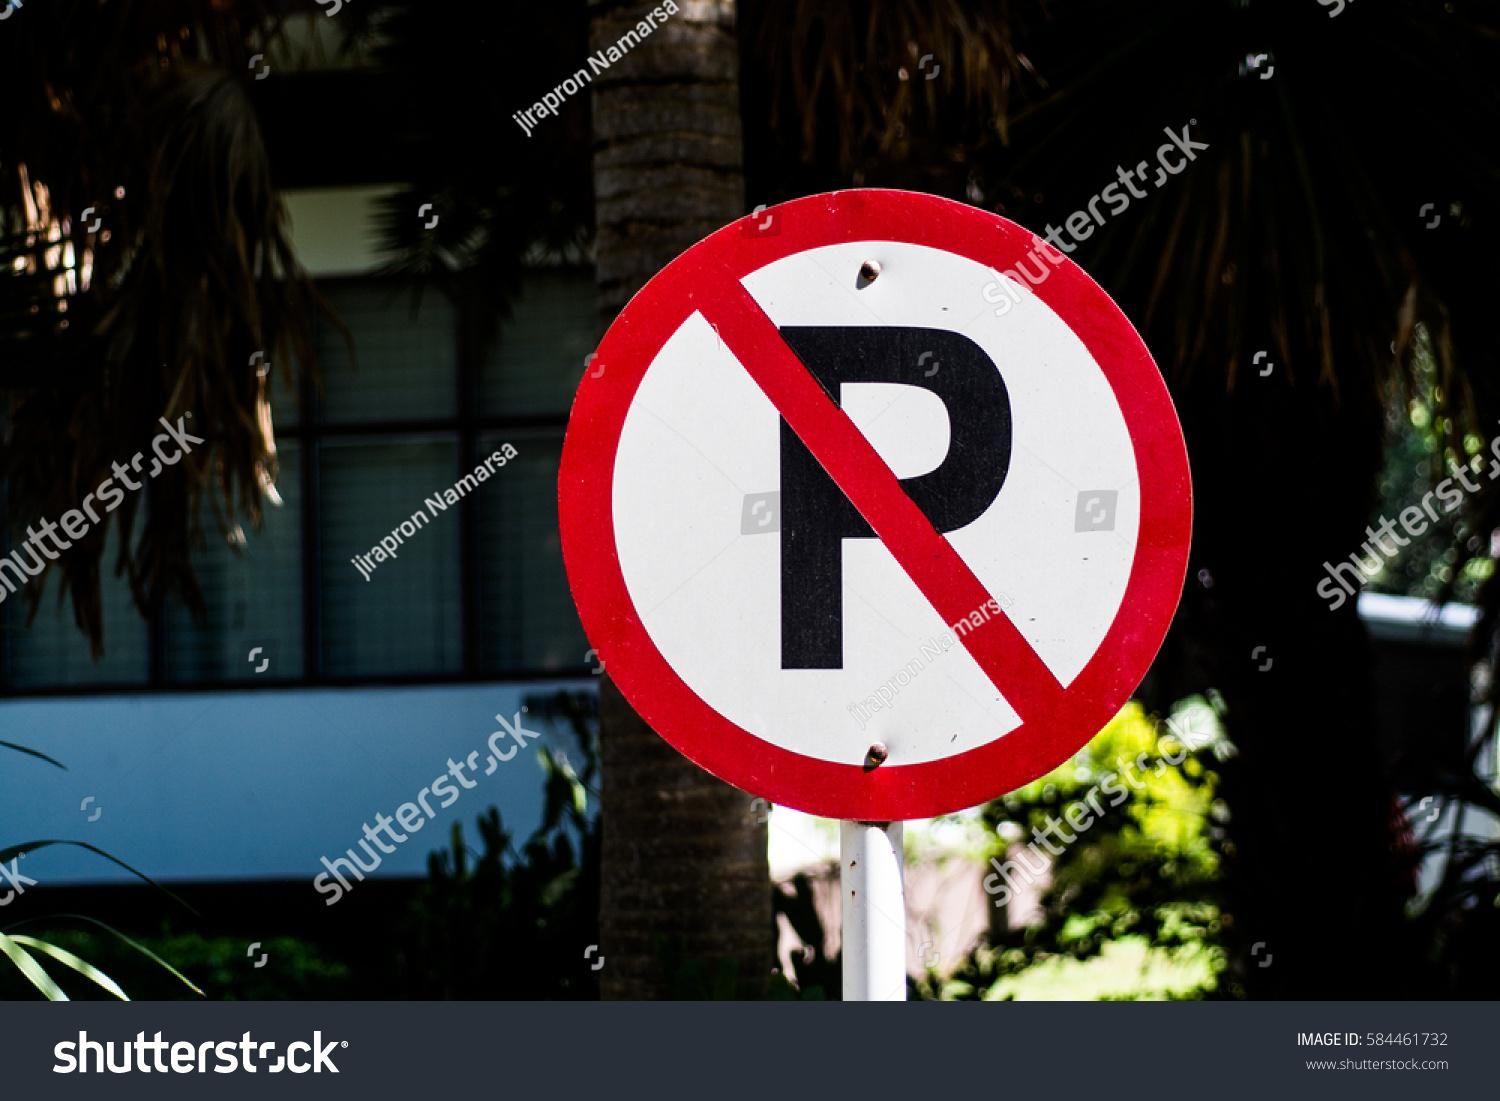No Parking: (616, 250, 1147, 754)
